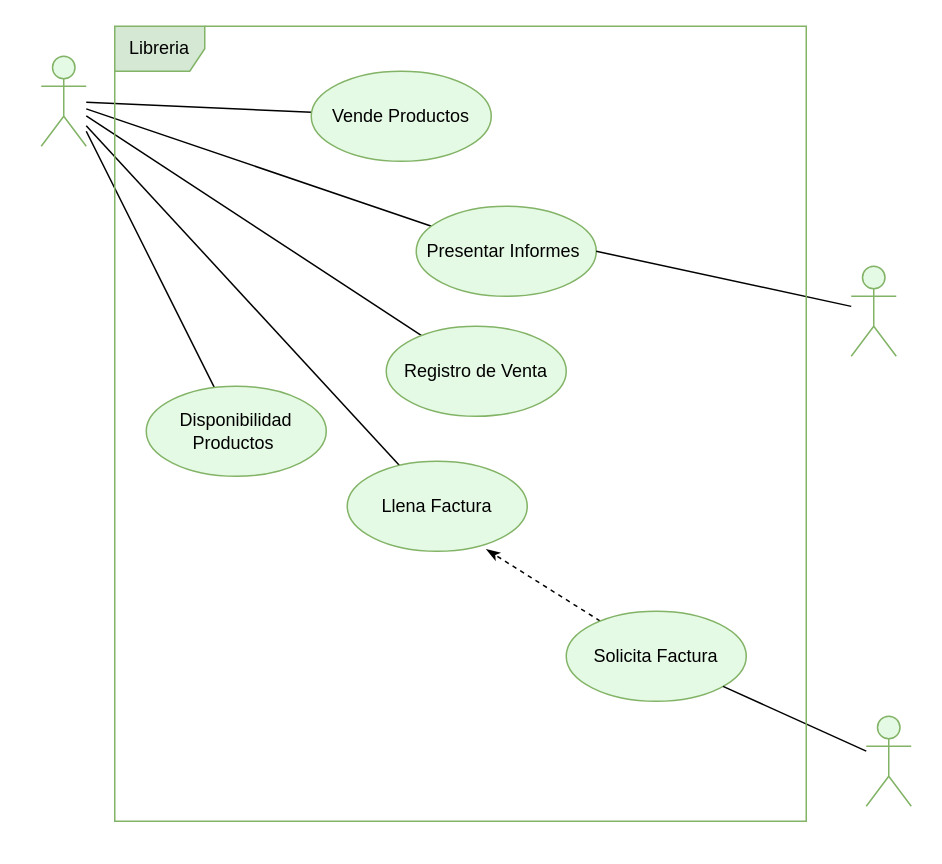
Image size: 942x864. Some labels were removed from this diagram. The shapes that lost their labels are listed below. From the top down, each one's box as (x1, y1, x2, y2) in pixels, then its label:
(40, 55, 86, 146): Vendedor
(850, 265, 896, 356): Gerenter
(865, 715, 911, 806): Cliente
